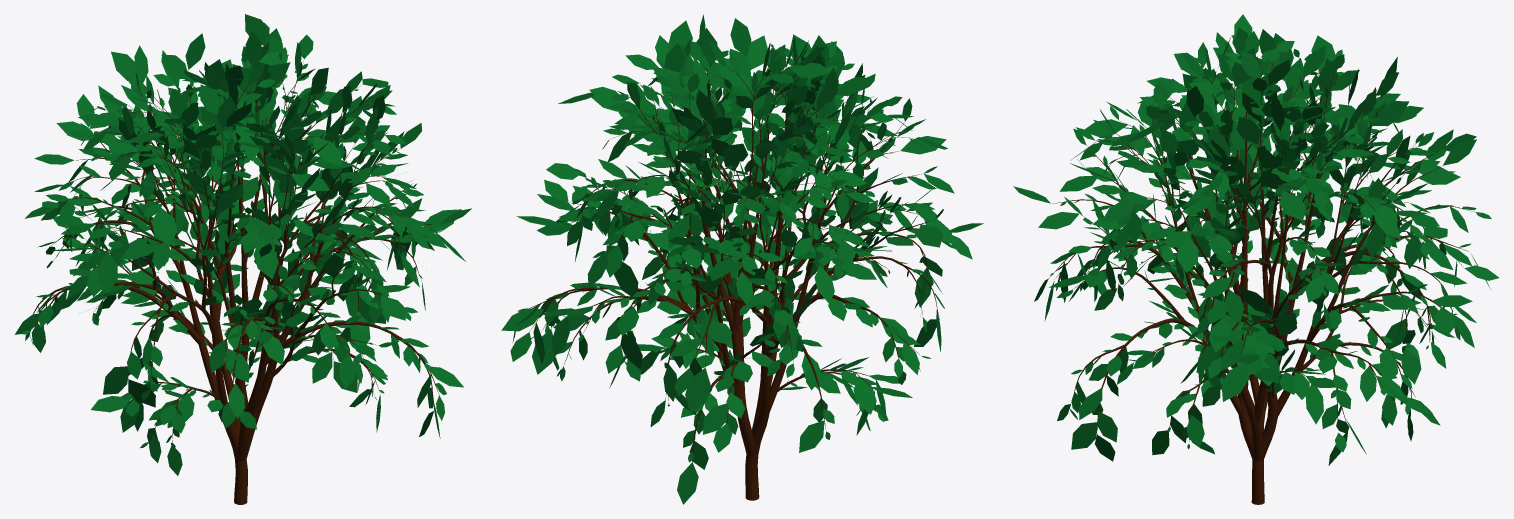
The model's file is arvore04.fbx.
The picture shows the model from 3 angles, left to right: view 1: azimuth 30°, elevation 25°; view 2: azimuth 150°, elevation 25°; view 3: azimuth 270°, elevation 25°; orthographic projection.
Visible parts, largest first — view 1: leaves, tree; view 2: leaves, tree; view 3: leaves, tree.
Part boxes in pixels (x1=…): leaves: x1=14, y1=14, x2=471, y2=475; tree: x1=31, y1=59, x2=440, y2=504; leaves: x1=501, y1=14, x2=983, y2=504; tree: x1=529, y1=45, x2=939, y2=500; leaves: x1=1013, y1=14, x2=1499, y2=465; tree: x1=1049, y1=40, x2=1474, y2=504.
Size of the model in its own units: 943 by 974 by 934.
